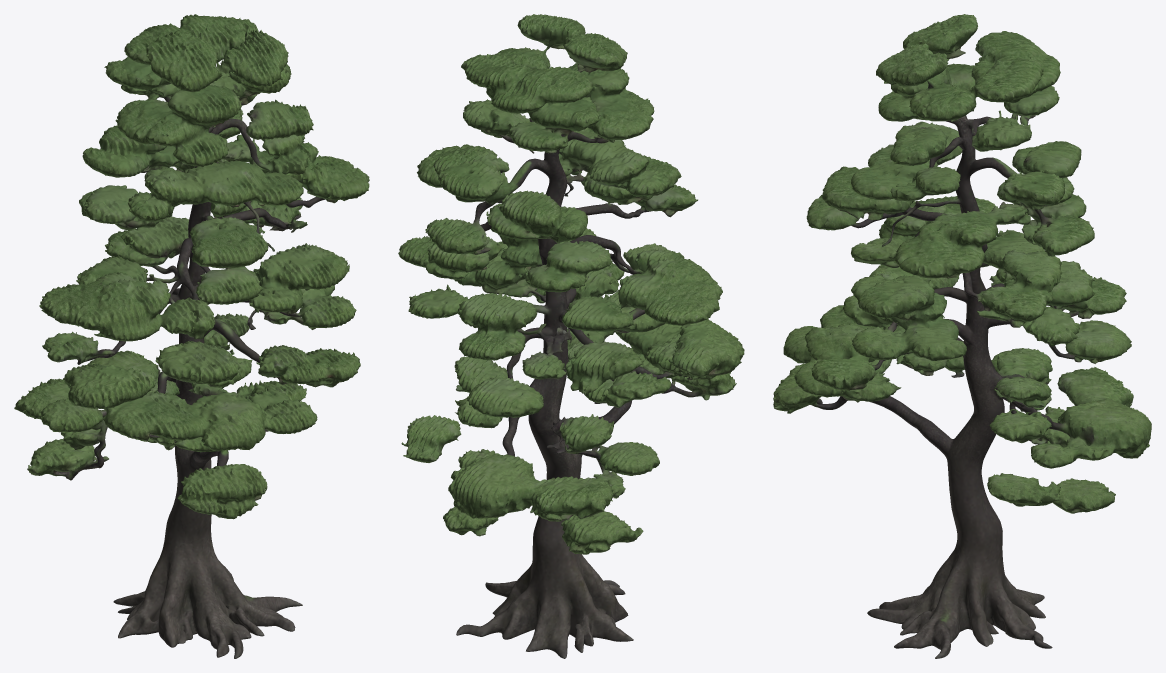
Rendered from prop14.glb.
3 renders of one model, left to right at view 1: azimuth 30°, elevation 25°; view 2: azimuth 150°, elevation 25°; view 3: azimuth 270°, elevation 25°, orthographic.
Visible parts, largest first — view 1: mesh_node; view 2: mesh_node; view 3: mesh_node.
Part boxes in pixels (bbox=[...]): mesh_node: bbox=[14, 14, 369, 658]; mesh_node: bbox=[398, 14, 744, 658]; mesh_node: bbox=[773, 14, 1151, 658].
Bounding box in the file's own units: 1.02 × 1.89 × 1.1.
Materials: 1 (1 with a texture image).
